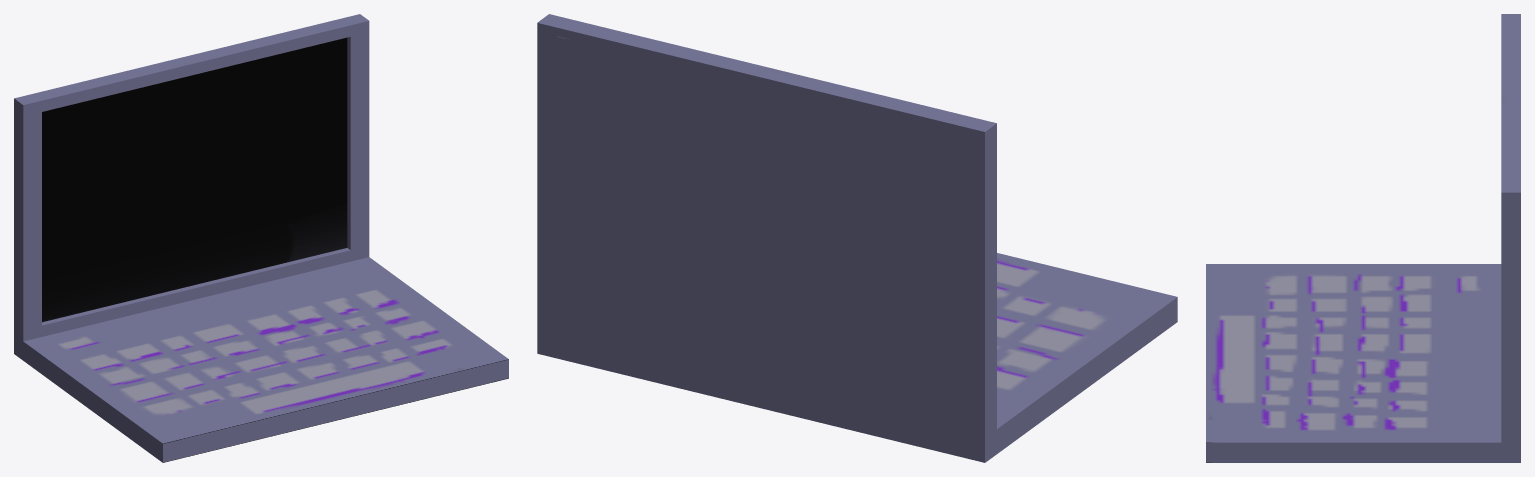
Rendered from NoteBook.fbx.
The picture shows the model from 3 angles, left to right: view 1: azimuth 30°, elevation 25°; view 2: azimuth 150°, elevation 25°; view 3: azimuth 270°, elevation 25°; orthographic projection. The views are drawn at different scales.
Parts seen in each view (by area): view 1: Cube; view 2: Cube; view 3: Cube.
Part boxes in pixels (x1,y1,x2,y2): Cube: (14,14,508,462); Cube: (537,14,1177,462); Cube: (1206,14,1520,462).
Bounding box in the file's own units: 2087 × 1474 × 1555.
Materials: 1 (1 with a texture image).
